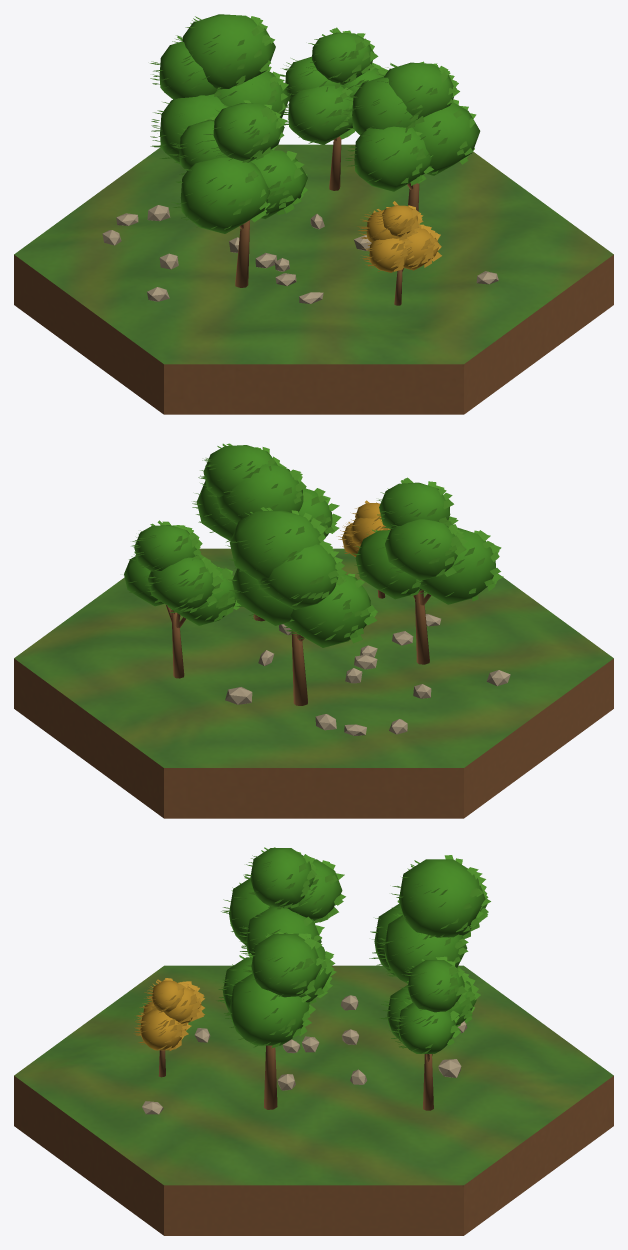
File: SM_BosqueNatural_A_LOD0.fbx
3 renders of one model, top to bottom at view 1: azimuth 30°, elevation 25°; view 2: azimuth 150°, elevation 25°; view 3: azimuth 270°, elevation 25°, orthographic.
Visible parts, largest first — view 1: SM_BosqueNatural_A_LOD0; view 2: SM_BosqueNatural_A_LOD0; view 3: SM_BosqueNatural_A_LOD0.
Part boxes in pixels (x1=…): SM_BosqueNatural_A_LOD0: x1=14, y1=14, x2=613, y2=414; SM_BosqueNatural_A_LOD0: x1=14, y1=443, x2=613, y2=818; SM_BosqueNatural_A_LOD0: x1=14, y1=847, x2=613, y2=1235.
Size of the model in its own units: 1.68 by 0.8907 by 1.94.
Materials: 1 (1 with a texture image).
